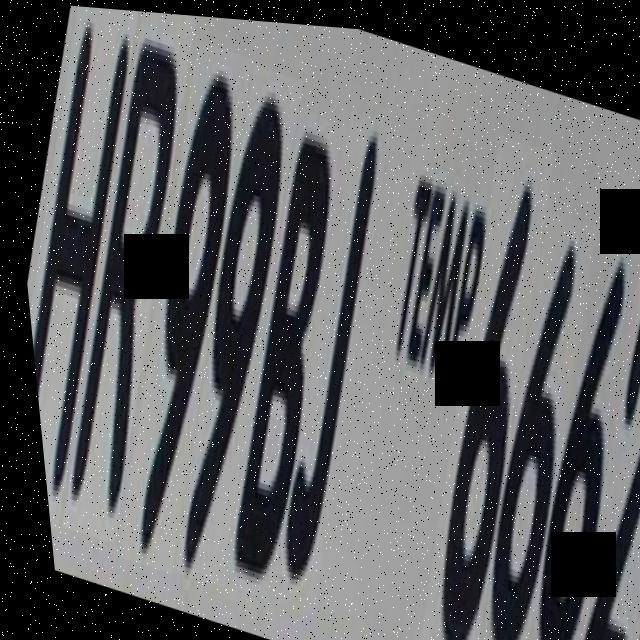6: (360, 118, 592, 640), (424, 193, 626, 640), (476, 228, 640, 640)
9: (67, 29, 291, 580), (123, 52, 340, 593)
B: (173, 96, 383, 617)
H: (0, 0, 178, 537)
J: (223, 95, 427, 618)
R: (10, 1, 236, 551)
